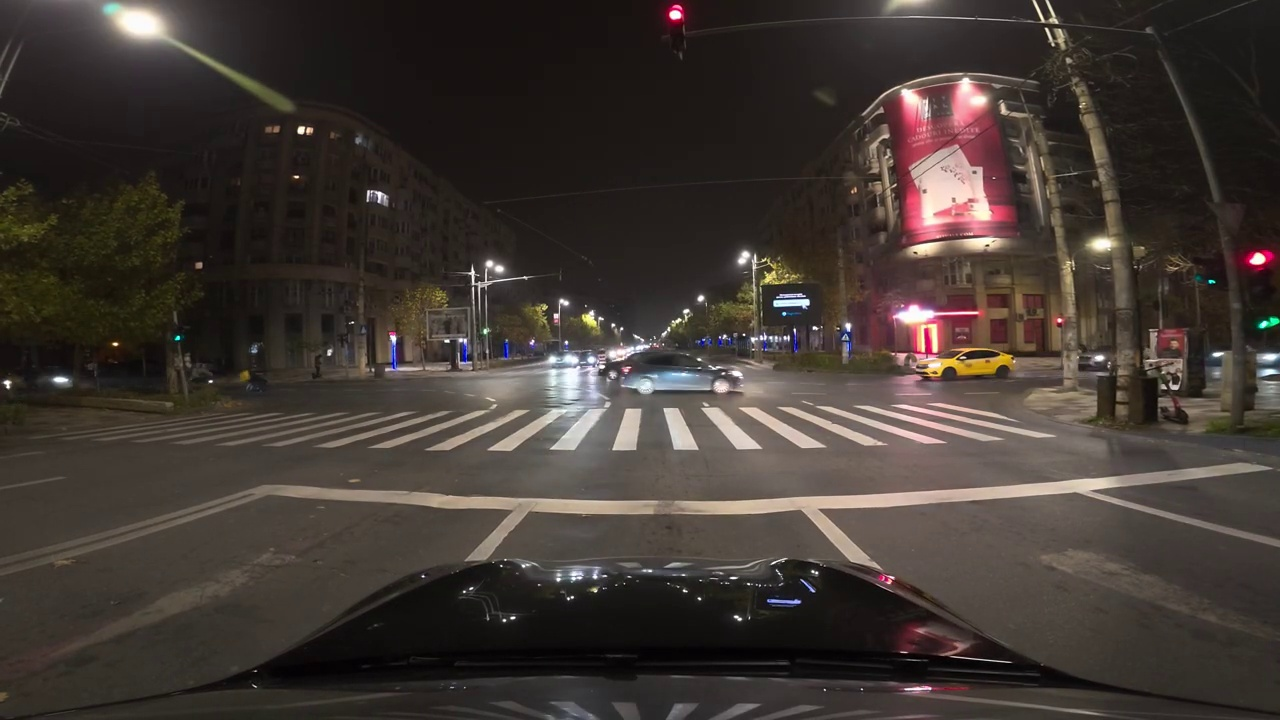acesa: (110, 5, 167, 46), (956, 81, 986, 109), (1088, 234, 1114, 255), (812, 87, 835, 108), (733, 249, 753, 269)
